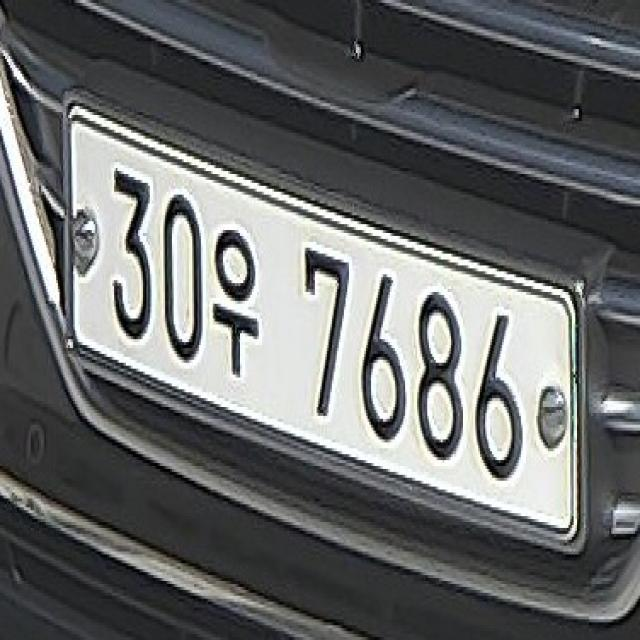0: (160, 180, 206, 363)
3: (107, 159, 157, 345)
6: (473, 309, 526, 486), (357, 272, 407, 442)
7: (301, 245, 349, 416)
8: (416, 286, 466, 466)
license_plate: (65, 97, 577, 543)
u: (206, 221, 262, 381)
